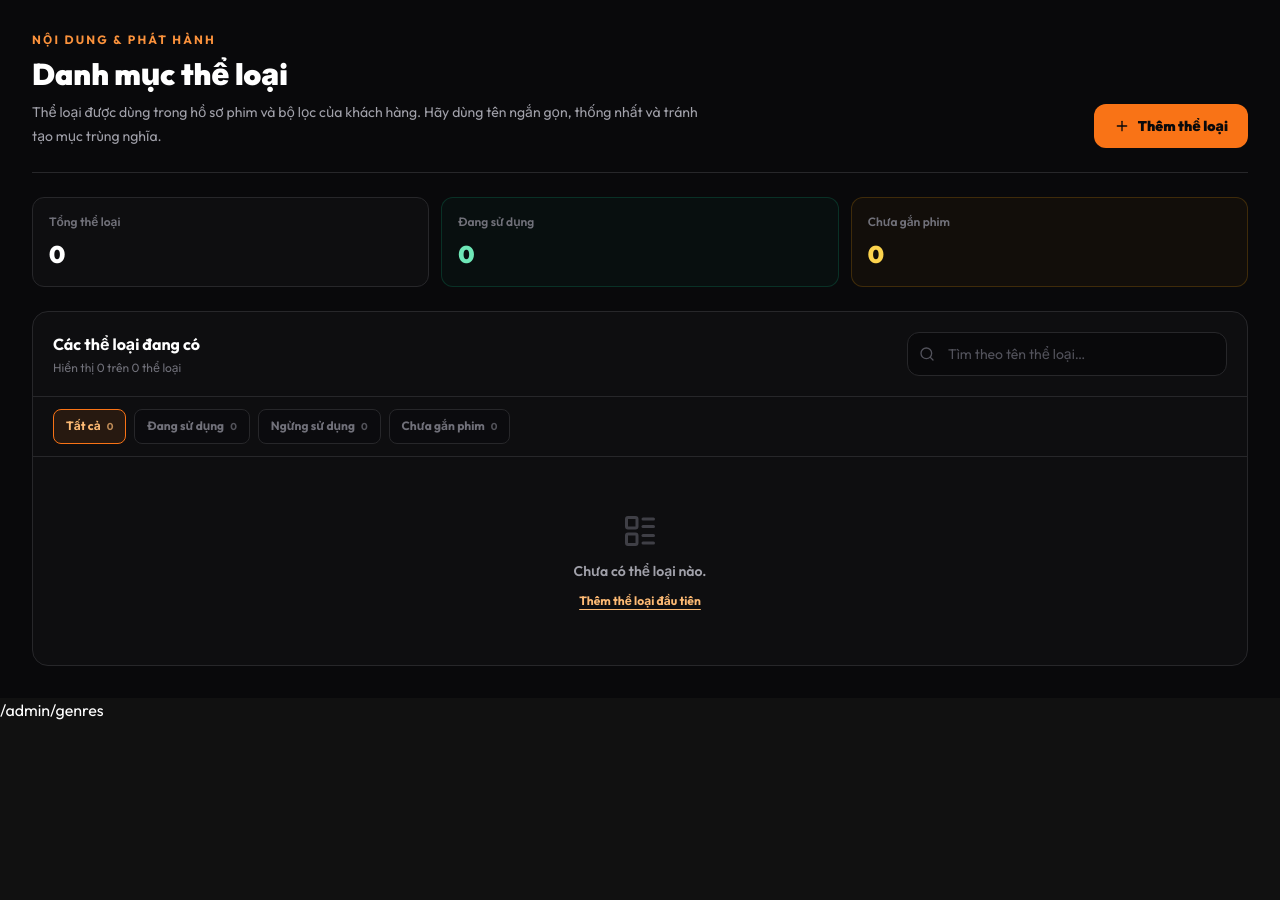
AdminGenrePage › opens a focused add form from the empty-state action
The image size is (1280, 900).
Expected: the text "Chưa có thể loại nào." is shown, [574,561,706,581]
Click the button "Thêm thể loại đầu tiên" at (640, 601), box [579,593,701,609]
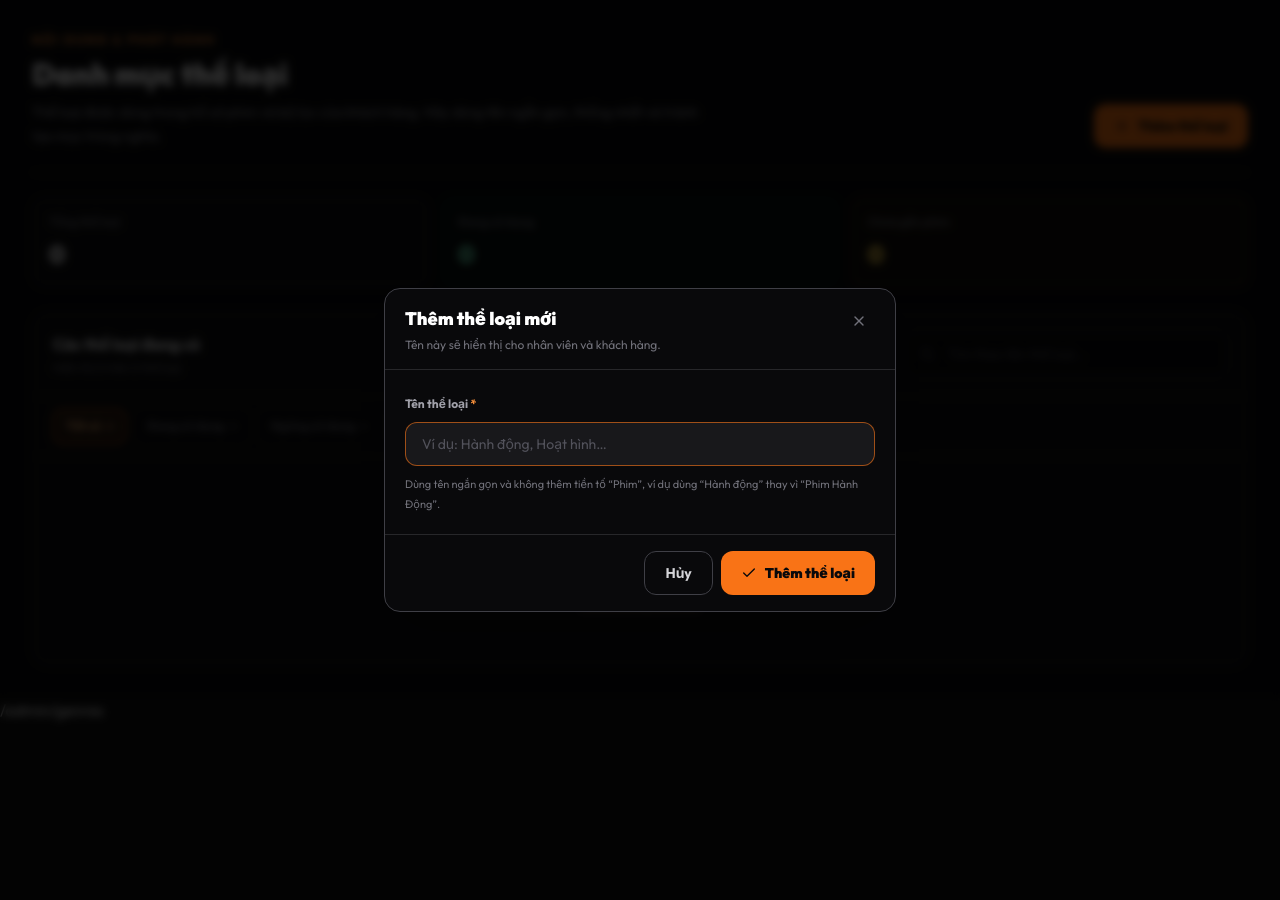
Expected: the dialog is shown, [384,288,896,612]
Expected: the field with test id "genre-name-input" is empty, [405,422,875,466]
